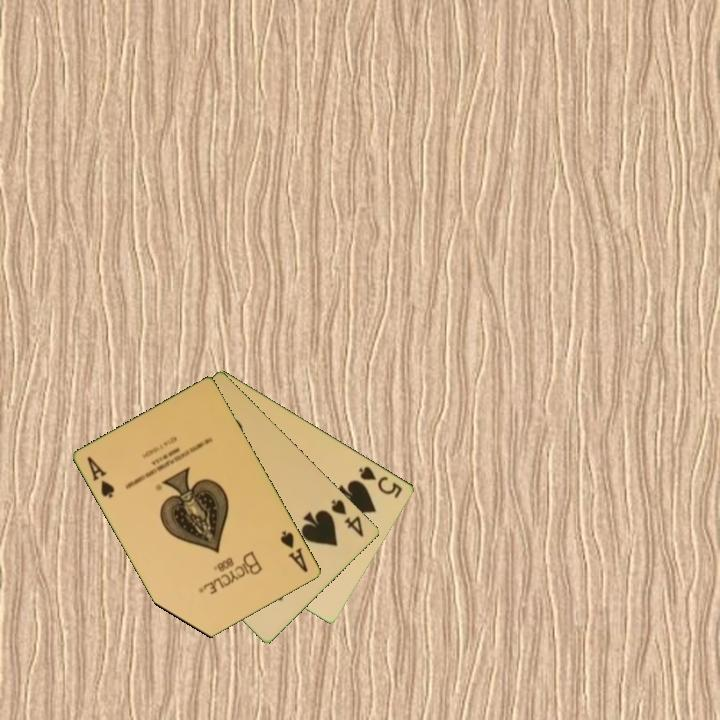4s: (328, 496, 367, 540)
5s: (356, 462, 406, 501)
As: (277, 527, 311, 576), (84, 453, 118, 501)
